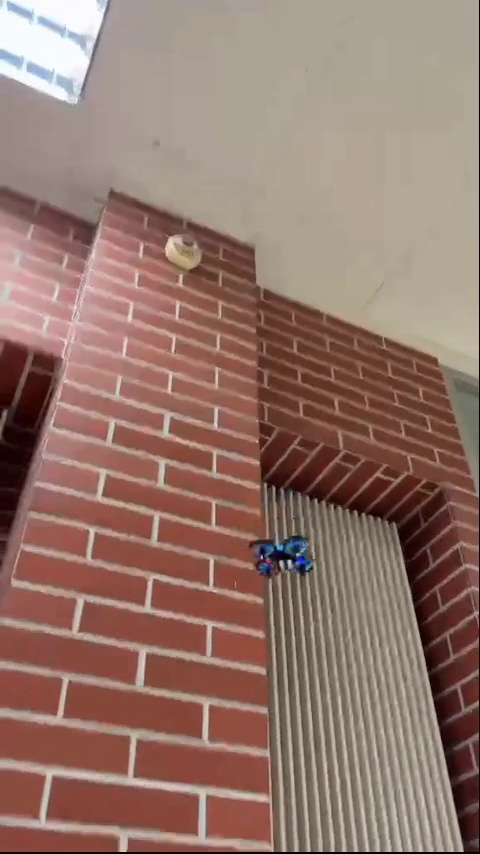drone: (251, 535, 315, 580)
